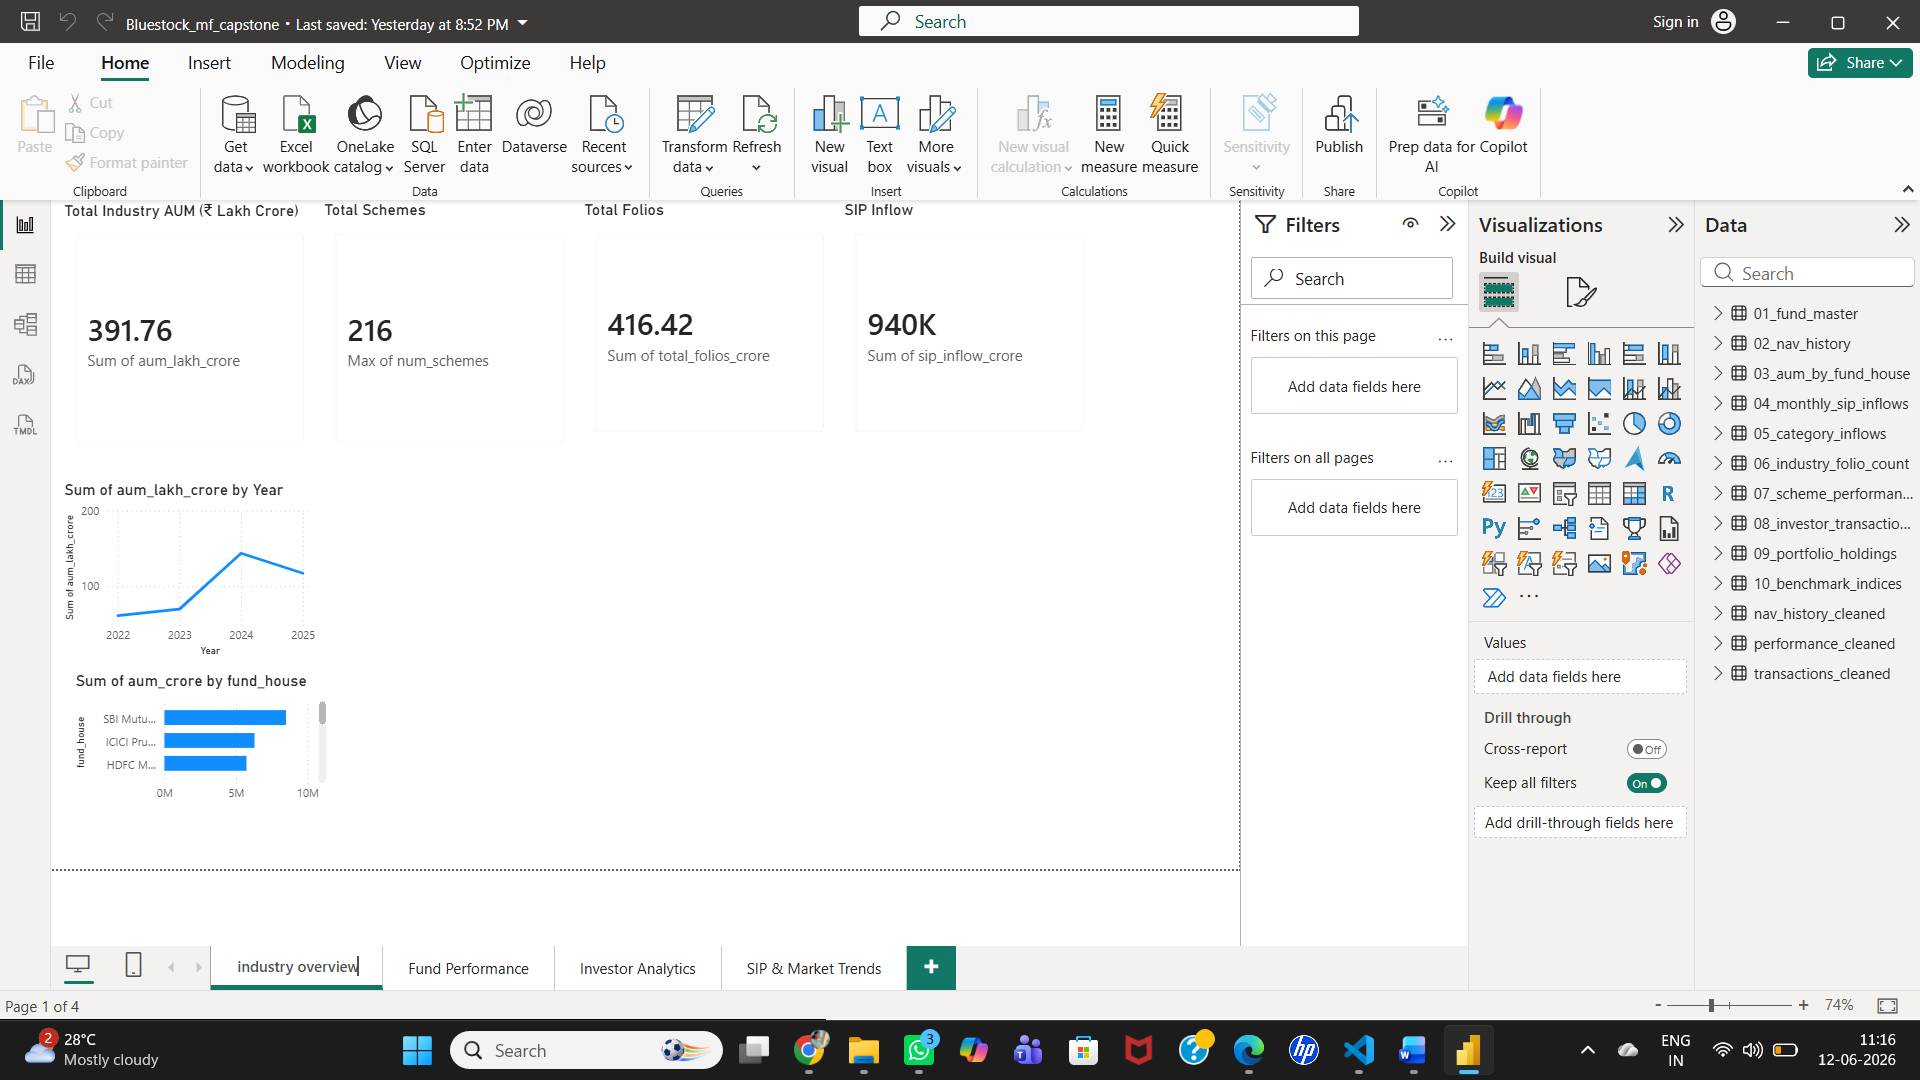

The dashboard page shown, as its layout file describes it:
{"tool":"powerbi","page":{"name":"industry overview","canvas":[1280,720],"ordinal":0},"visuals":[{"type":"cardVisual","title":"Total Industry AUM (₹ Lakh Crore)","fields":{"Data":["Sum(03_aum_by_fund_house.aum_lakh_crore)"]},"box":[9.4,0,280,280],"z":0},{"type":"lineChart","fields":{"Category":["03_aum_by_fund_house.date.Variation.Date Hierarchy.Year","03_aum_by_fund_house.date.Variation.Date Hierarchy.Quarter","03_aum_by_fund_house.date.Variation.Date Hierarchy.Month","03_aum_by_fund_house.date.Variation.Date Hierarchy.Day"],"Y":["Sum(03_aum_by_fund_house.aum_lakh_crore)"]},"box":[9.4,301.6,280,195.2],"z":1000},{"type":"clusteredBarChart","fields":{"Category":["03_aum_by_fund_house.fund_house"],"Y":["Sum(03_aum_by_fund_house.aum_crore)"]},"box":[22,507.5,280,150],"z":2000},{"type":"cardVisual","title":"Total Schemes","fields":{"Data":["Max(03_aum_by_fund_house.num_schemes)"]},"box":[289.4,0,280,280],"z":3000},{"type":"cardVisual","title":"Total Folios","fields":{"Data":["Sum(06_industry_folio_count.total_folios_crore)"]},"box":[569.5,0,280,267.9],"z":4000},{"type":"cardVisual","title":"SIP Inflow","fields":{"Data":["Sum(04_monthly_sip_inflows.sip_inflow_crore)"]},"box":[849.5,0,280,267.9],"z":5000}]}

Visuals, with their boxes on the page's 1280x720 design canvas (x1, y1, x2, y2). These are canvas units, not pixel positions in the 1920x1080 screenshot, which may show the page scaled, cropped or inside an application window:
"Total Industry AUM (₹ Lakh Crore)" cardVisual: detection(9, 0, 289, 280)
lineChart - 03_aum_by_fund_house.date.Variation.Date Hierarchy.Year x 03_aum_by_fund_house.date.Variation.Date Hierarchy.Quarter: detection(9, 302, 289, 497)
clusteredBarChart - 03_aum_by_fund_house.fund_house x Sum(03_aum_by_fund_house.aum_crore): detection(22, 508, 302, 658)
"Total Schemes" cardVisual: detection(289, 0, 569, 280)
"Total Folios" cardVisual: detection(570, 0, 850, 268)
"SIP Inflow" cardVisual: detection(850, 0, 1130, 268)
